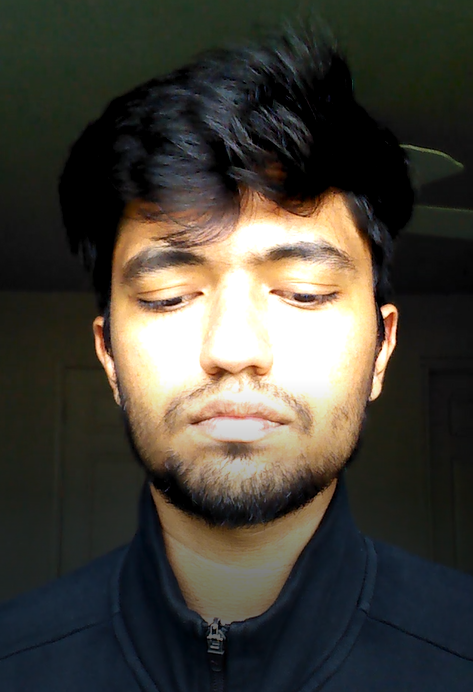Sleeping: (114, 249, 354, 331)
